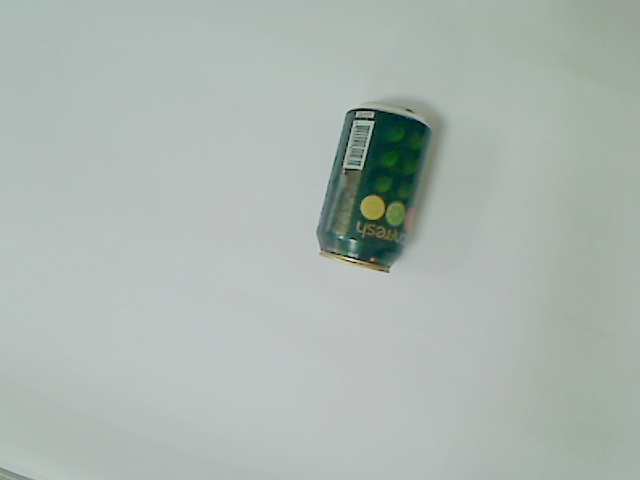can: (313, 100, 436, 276)
